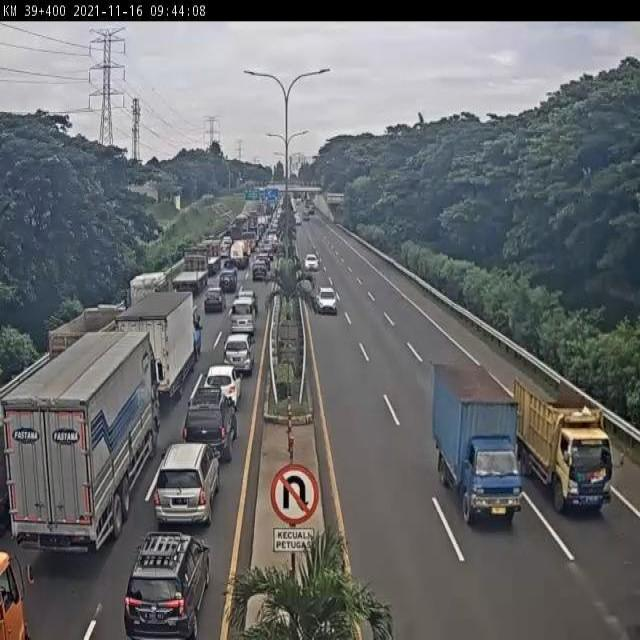Car: (121, 530, 210, 640), (152, 442, 220, 528), (183, 383, 238, 461), (202, 364, 242, 410), (222, 333, 255, 376), (230, 308, 256, 339), (314, 286, 338, 314), (234, 288, 258, 315), (203, 287, 224, 313), (219, 266, 238, 293), (252, 261, 268, 281), (256, 251, 272, 270), (304, 254, 319, 271), (308, 206, 316, 214), (303, 212, 310, 221)
Truck: (4, 326, 161, 551), (434, 365, 523, 526), (512, 381, 612, 516), (114, 292, 196, 406), (48, 306, 125, 361), (0, 545, 31, 638), (172, 249, 208, 299), (130, 272, 167, 306), (201, 238, 223, 270), (230, 240, 249, 268)
